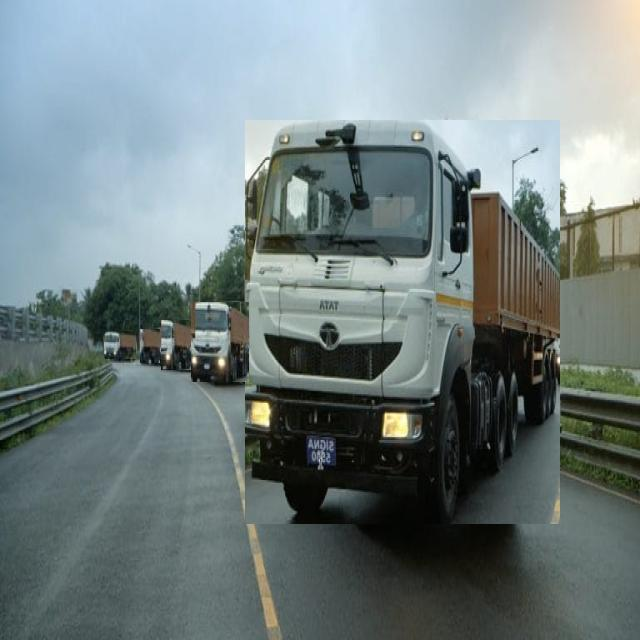truck: (245, 120, 560, 524), (191, 302, 249, 382), (161, 320, 191, 370), (104, 331, 136, 359), (140, 329, 160, 363)
